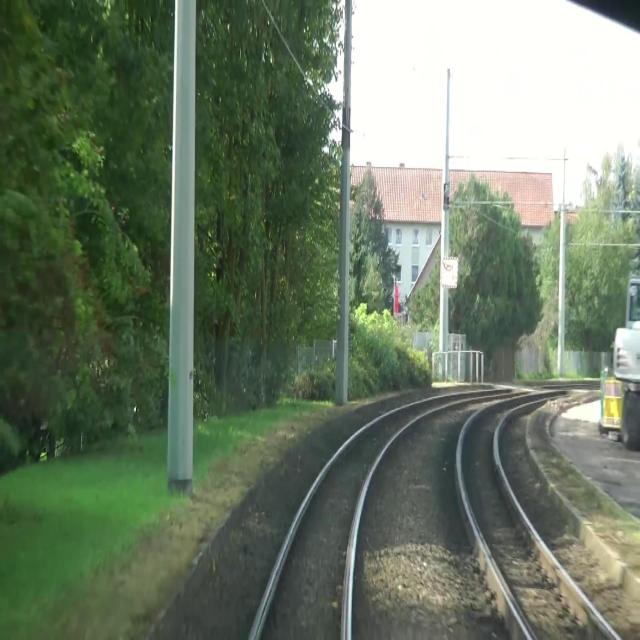rail-track: (255, 399, 449, 639), (462, 402, 614, 639)
